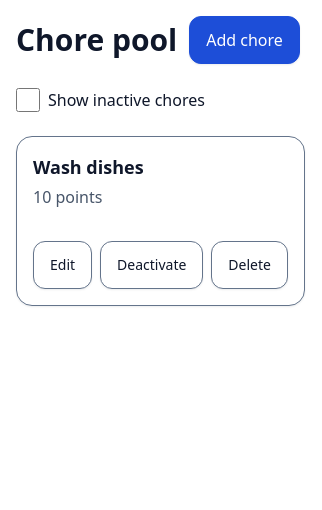
loading the pool › the inactive toggle refetches both states and labels the inactive one
Check: the heading "Wash dishes" is shown, box [33,155,144,179]
Click the checkbox labelled "Show inactive chores": (28, 100) [16,88,40,112]
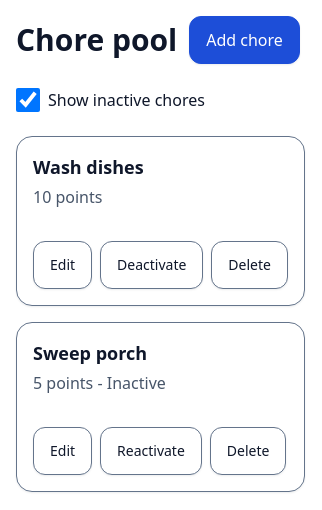
Check: the heading "Sweep porch" is shown, box [33,341,147,365]
Check: the text "5 points - Inactive" is shown, box [33,372,166,394]
